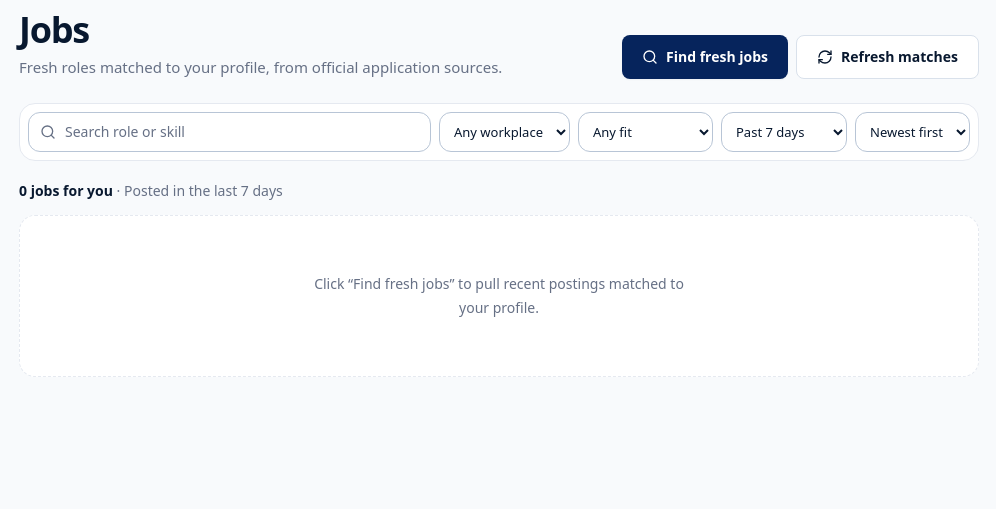
Scenario: JobDiscovery › discovers jobs and shows fit score, posted date, and official apply link
Click the button "Find fresh jobs" at [705, 56], box x1=622 y1=34 x2=788 y2=78
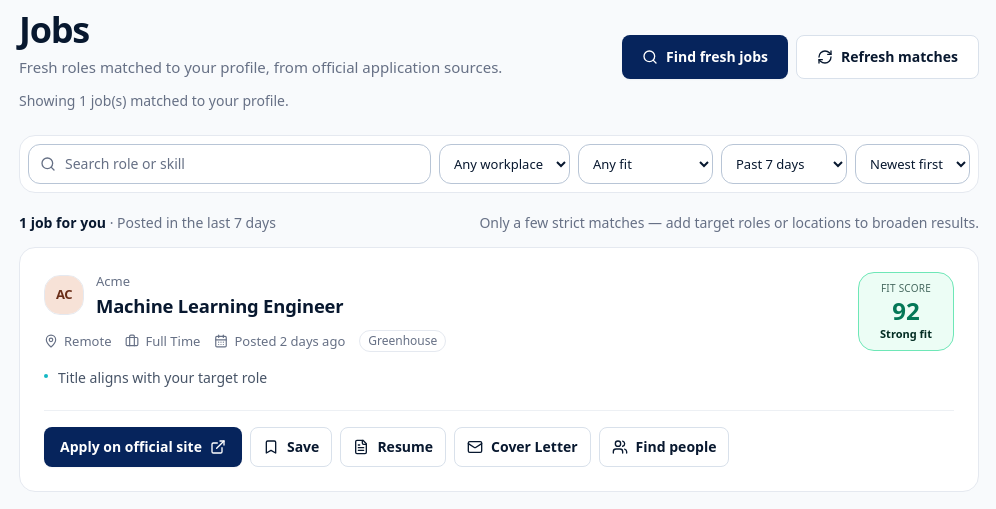
Check: the text "92" is shown, box x1=892 y1=294 x2=920 y2=326
Check: the text "Strong fit" is shown, box x1=880 y1=326 x2=932 y2=340
Check: the text "Posted 2 days ago" is shown, box x1=214 y1=332 x2=345 y2=351
